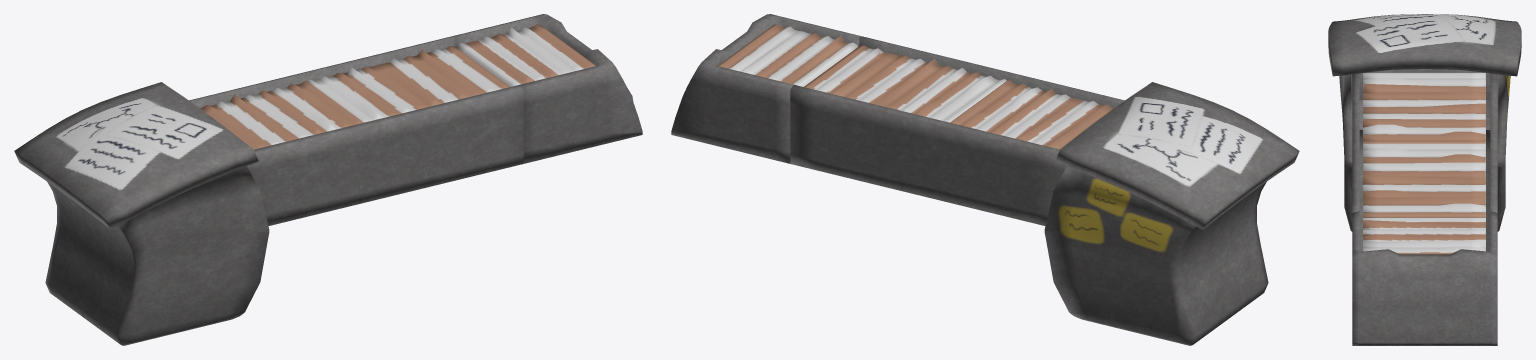
The model's file is FileCabinet_Open_2.glb.
3 views of the same model, side by side, from view 1: azimuth 30°, elevation 25°; view 2: azimuth 150°, elevation 25°; view 3: azimuth 270°, elevation 25° (orthographic).
Parts seen in each view (by area): view 1: FileCabinetBase, TopDrawerExtendedPapersMiddle, TopDrawerPapers; view 2: FileCabinetBase, TopDrawerExtendedPapersMiddle, TopDrawerPapers; view 3: TopDrawerExtendedPapersMiddle, TopDrawerPapers, FileCabinetBase.
Boxes of the visible parts, bbox=[...] form: FileCabinetBase: bbox=[14, 82, 269, 345]; TopDrawerExtendedPapersMiddle: bbox=[189, 36, 523, 225]; TopDrawerPapers: bbox=[451, 14, 642, 163]; FileCabinetBase: bbox=[1044, 82, 1299, 345]; TopDrawerExtendedPapersMiddle: bbox=[790, 36, 1124, 225]; TopDrawerPapers: bbox=[671, 14, 862, 163]; TopDrawerExtendedPapersMiddle: bbox=[1352, 72, 1497, 251]; TopDrawerPapers: bbox=[1352, 211, 1497, 345]; FileCabinetBase: bbox=[1328, 14, 1521, 231].
Bounding box in the file's own units: 3.54 × 1.13 × 1.08.
4 materials, 4 textured.
